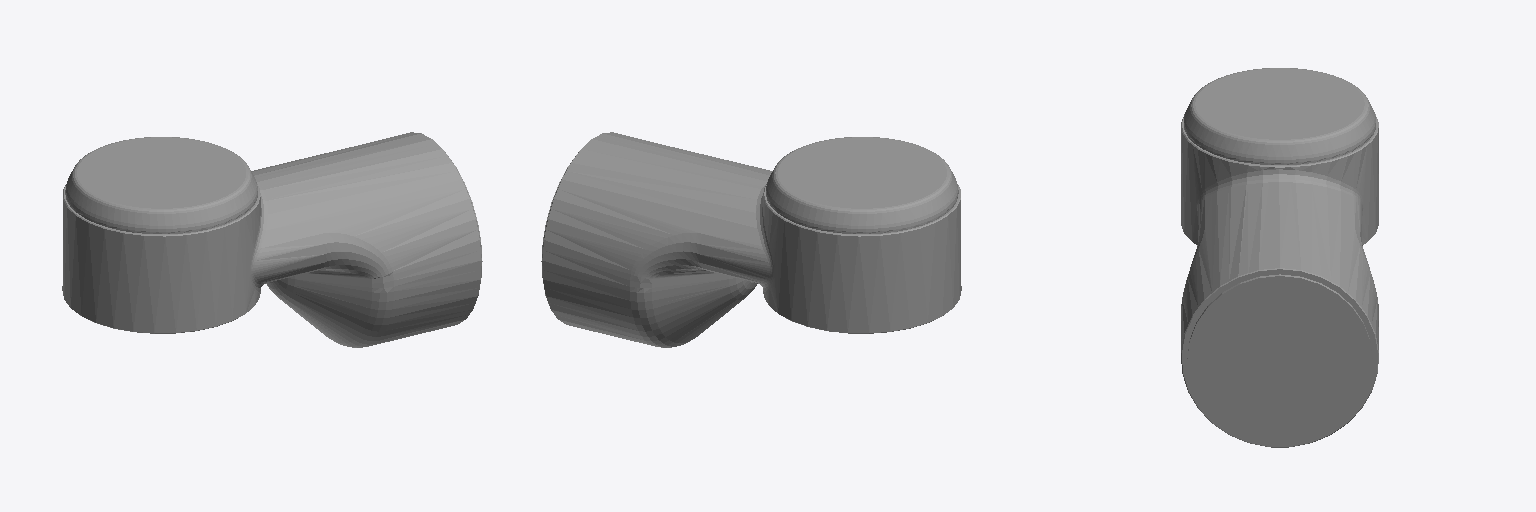
File: elbow_flex_link.obj
3 renders of one model, left to right at view 1: azimuth 30°, elevation 25°; view 2: azimuth 150°, elevation 25°; view 3: azimuth 270°, elevation 25°, orthographic.
Parts seen in each view (by area): view 1: elbow_flex_link_elbow_flex_link; view 2: elbow_flex_link_elbow_flex_link; view 3: elbow_flex_link_elbow_flex_link.
Boxes of the visible parts, <box> form: elbow_flex_link_elbow_flex_link: <box>62,132,482,347</box>; elbow_flex_link_elbow_flex_link: <box>541,132,961,347</box>; elbow_flex_link_elbow_flex_link: <box>1181,68,1378,447</box>.
Size of the model in its own units: 0.218 by 0.1225 by 0.104.